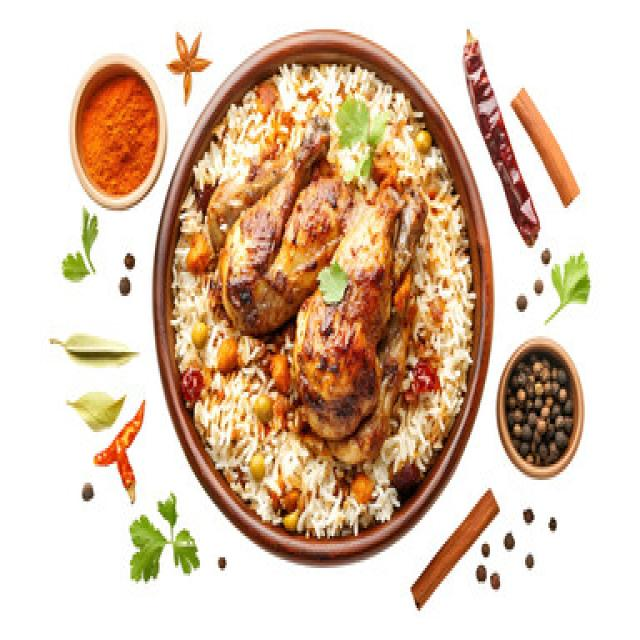BIRIYANI: (172, 64, 478, 536)
RED CHUTNEY: (78, 74, 158, 193)
SUNDAL: (496, 328, 586, 475)
